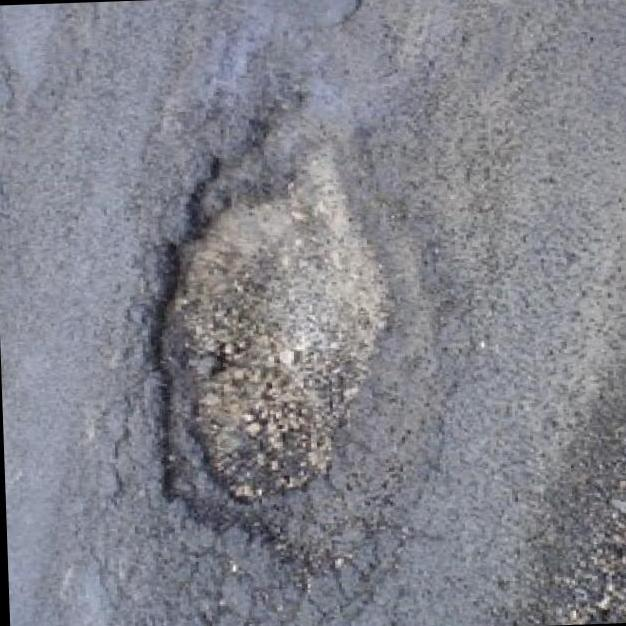pothole: (76, 98, 452, 536)
